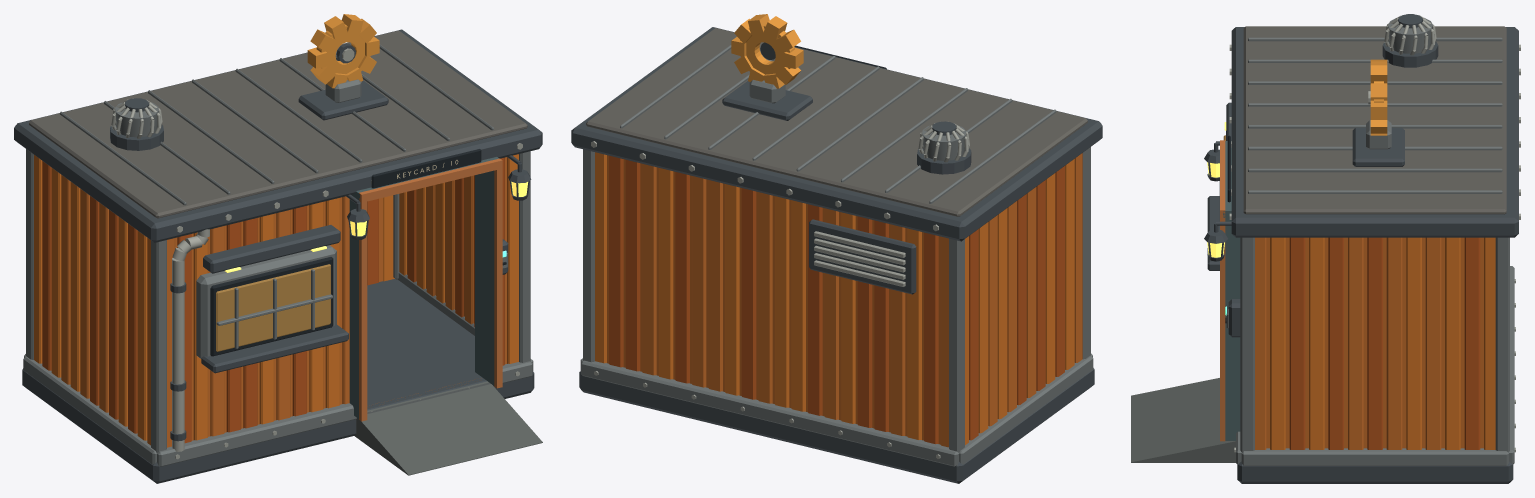
Rendered from e5b-keycard-shed-open.glb.
3 views of the same model, side by side, from view 1: azimuth 30°, elevation 25°; view 2: azimuth 150°, elevation 25°; view 3: azimuth 270°, elevation 25° (orthographic).
Visible parts, largest first — view 1: Graphite castwork doorway, Warm counterweight gray doorway, Braised gunmetal edges doorway, Ochre sun enamel doorway, Safety enamel | burnt tangerine doorway, Burnt orange shadow enamel doorway, Folded approach ramp, Smoked service-window glass doorway, Steel inset jamb.001, Worn zinc fasteners doorway, Carbon gasket doorway, Amber baked enamel doorway (+4 smaller); view 2: Warm counterweight gray doorway, Safety enamel | burnt tangerine doorway, Burnt orange shadow enamel doorway, Ochre sun enamel doorway, Graphite castwork doorway, Braised gunmetal edges doorway, Worn zinc fasteners doorway, Amber baked enamel doorway; view 3: Warm counterweight gray doorway, Safety enamel | burnt tangerine doorway, Graphite castwork doorway, Braised gunmetal edges doorway, Ochre sun enamel doorway, Burnt orange shadow enamel doorway, Folded approach ramp, Steel inset jamb.001, Amber baked enamel doorway, Worn zinc fasteners doorway, Orange edge casing.001, Orange edge lintel.
Part boxes in pixels (x1,y1,x2,y2): Graphite castwork doorway: (14,29,542,483); Warm counterweight gray doorway: (29,30,527,218); Braised gunmetal edges doorway: (23,44,533,466); Ochre sun enamel doorway: (34,154,518,440); Safety enamel | burnt tangerine doorway: (61,157,506,447); Burnt orange shadow enamel doorway: (42,157,504,443); Folded approach ramp: (354,381,542,475); Smoked service-window glass doorway: (216,264,330,351); Steel inset jamb.001: (475,170,494,385); Worn zinc fasteners doorway: (111,48,522,459); Carbon gasket doorway: (210,149,506,356); Amber baked enamel doorway: (307,14,379,88); Warm counterweight gray doorway: (586,28,1087,216); Safety enamel | burnt tangerine doorway: (607,153,1082,447); Burnt orange shadow enamel doorway: (609,155,1064,444); Ochre sun enamel doorway: (595,152,1074,444); Graphite castwork doorway: (571,27,1102,483); Braised gunmetal edges doorway: (580,45,1093,466); Worn zinc fasteners doorway: (591,123,969,458); Amber baked enamel doorway: (731,14,803,88); Warm counterweight gray doorway: (1243,26,1506,214); Safety enamel | burnt tangerine doorway: (1255,237,1483,449); Graphite castwork doorway: (1204,14,1518,483); Braised gunmetal edges doorway: (1219,18,1514,465); Ochre sun enamel doorway: (1270,237,1495,449); Burnt orange shadow enamel doorway: (1289,237,1480,449); Folded approach ramp: (1131,378,1235,462); Steel inset jamb.001: (1225,218,1240,440); Amber baked enamel doorway: (1370,59,1387,135); Worn zinc fasteners doorway: (1229,14,1520,452); Orange edge casing.001: (1220,215,1225,441); Orange edge lintel: (1220,140,1225,218).
Size of the model in its own units: 3.79 by 3.28 by 3.21.
